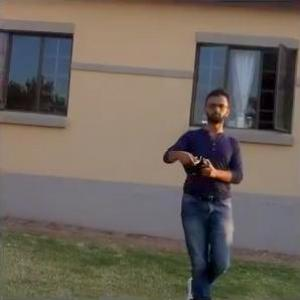follow: (161, 80, 252, 299)
